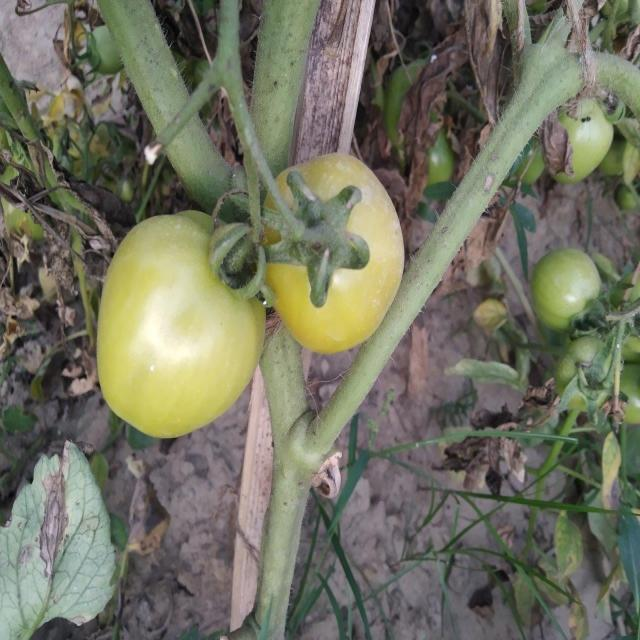Unripe: (94, 202, 266, 440), (258, 154, 405, 356), (532, 240, 601, 335)
